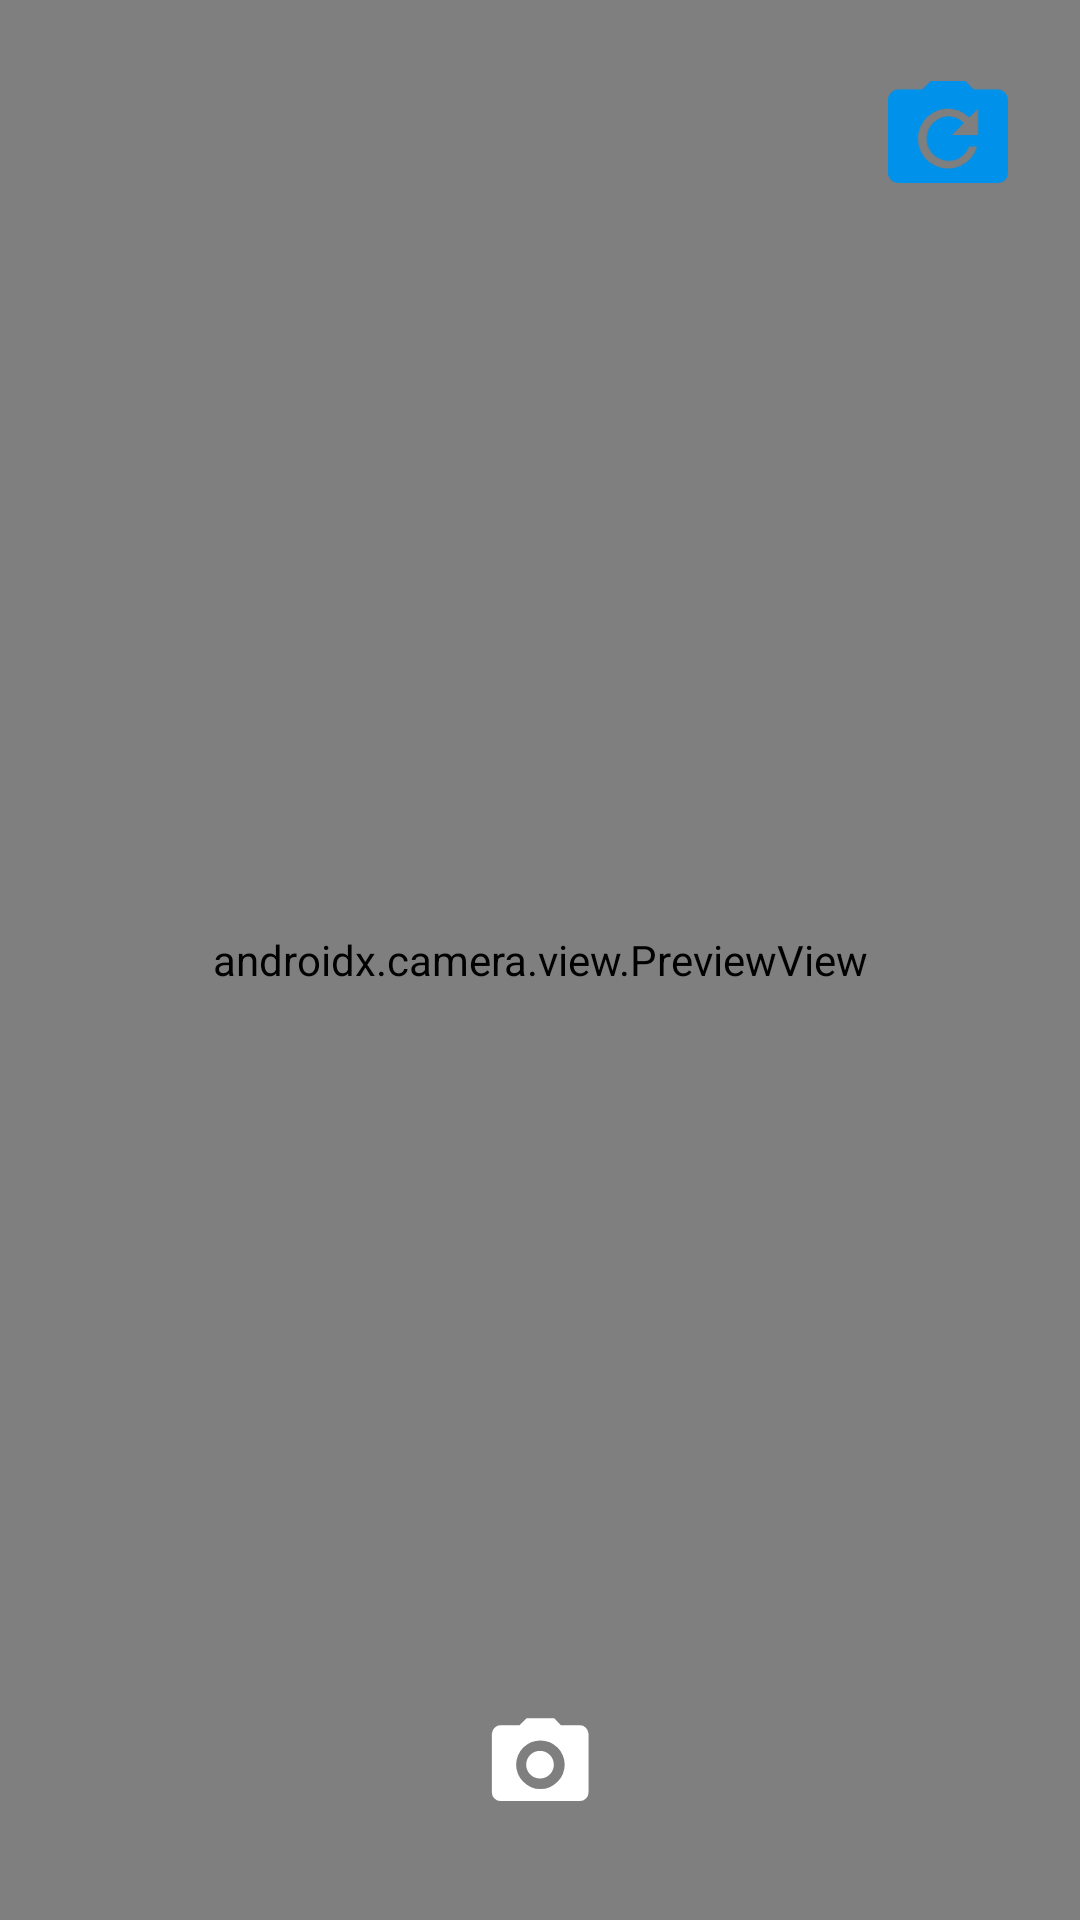

Icons on this 1080 × 1920 Android screen, each with the point to tap as (x,y):
Capture image: (540,1759)
Switch Camera: (948,132)
